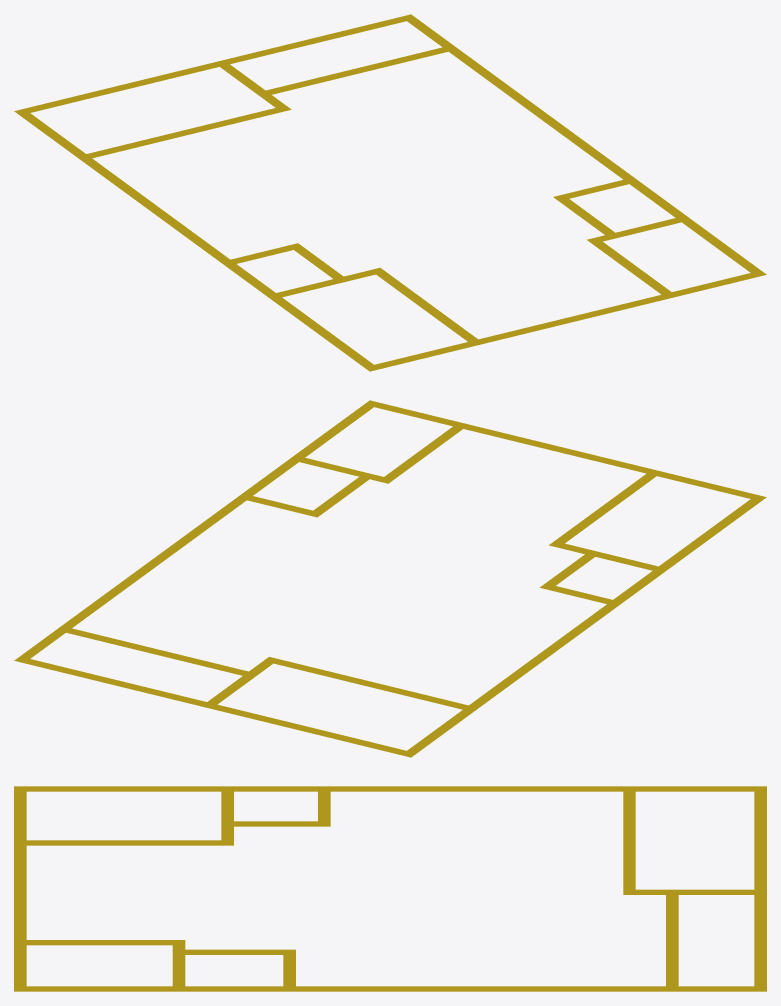
Rendered from CK_dimian_huangxian.FBX.
3 renders of one model, top to bottom at view 1: azimuth 30°, elevation 25°; view 2: azimuth 150°, elevation 25°; view 3: azimuth 270°, elevation 25°, orthographic. The views are drawn at different scales.
Parts seen in each view (by area): view 1: CK_dimian_huangxian; view 2: CK_dimian_huangxian; view 3: CK_dimian_huangxian.
Part boxes in pixels (x1=…): CK_dimian_huangxian: x1=14, y1=14, x2=766, y2=371; CK_dimian_huangxian: x1=14, y1=400, x2=766, y2=757; CK_dimian_huangxian: x1=14, y1=786, x2=766, y2=991.
Size of the model in its own units: 580 by 6.85e-06 by 900.
